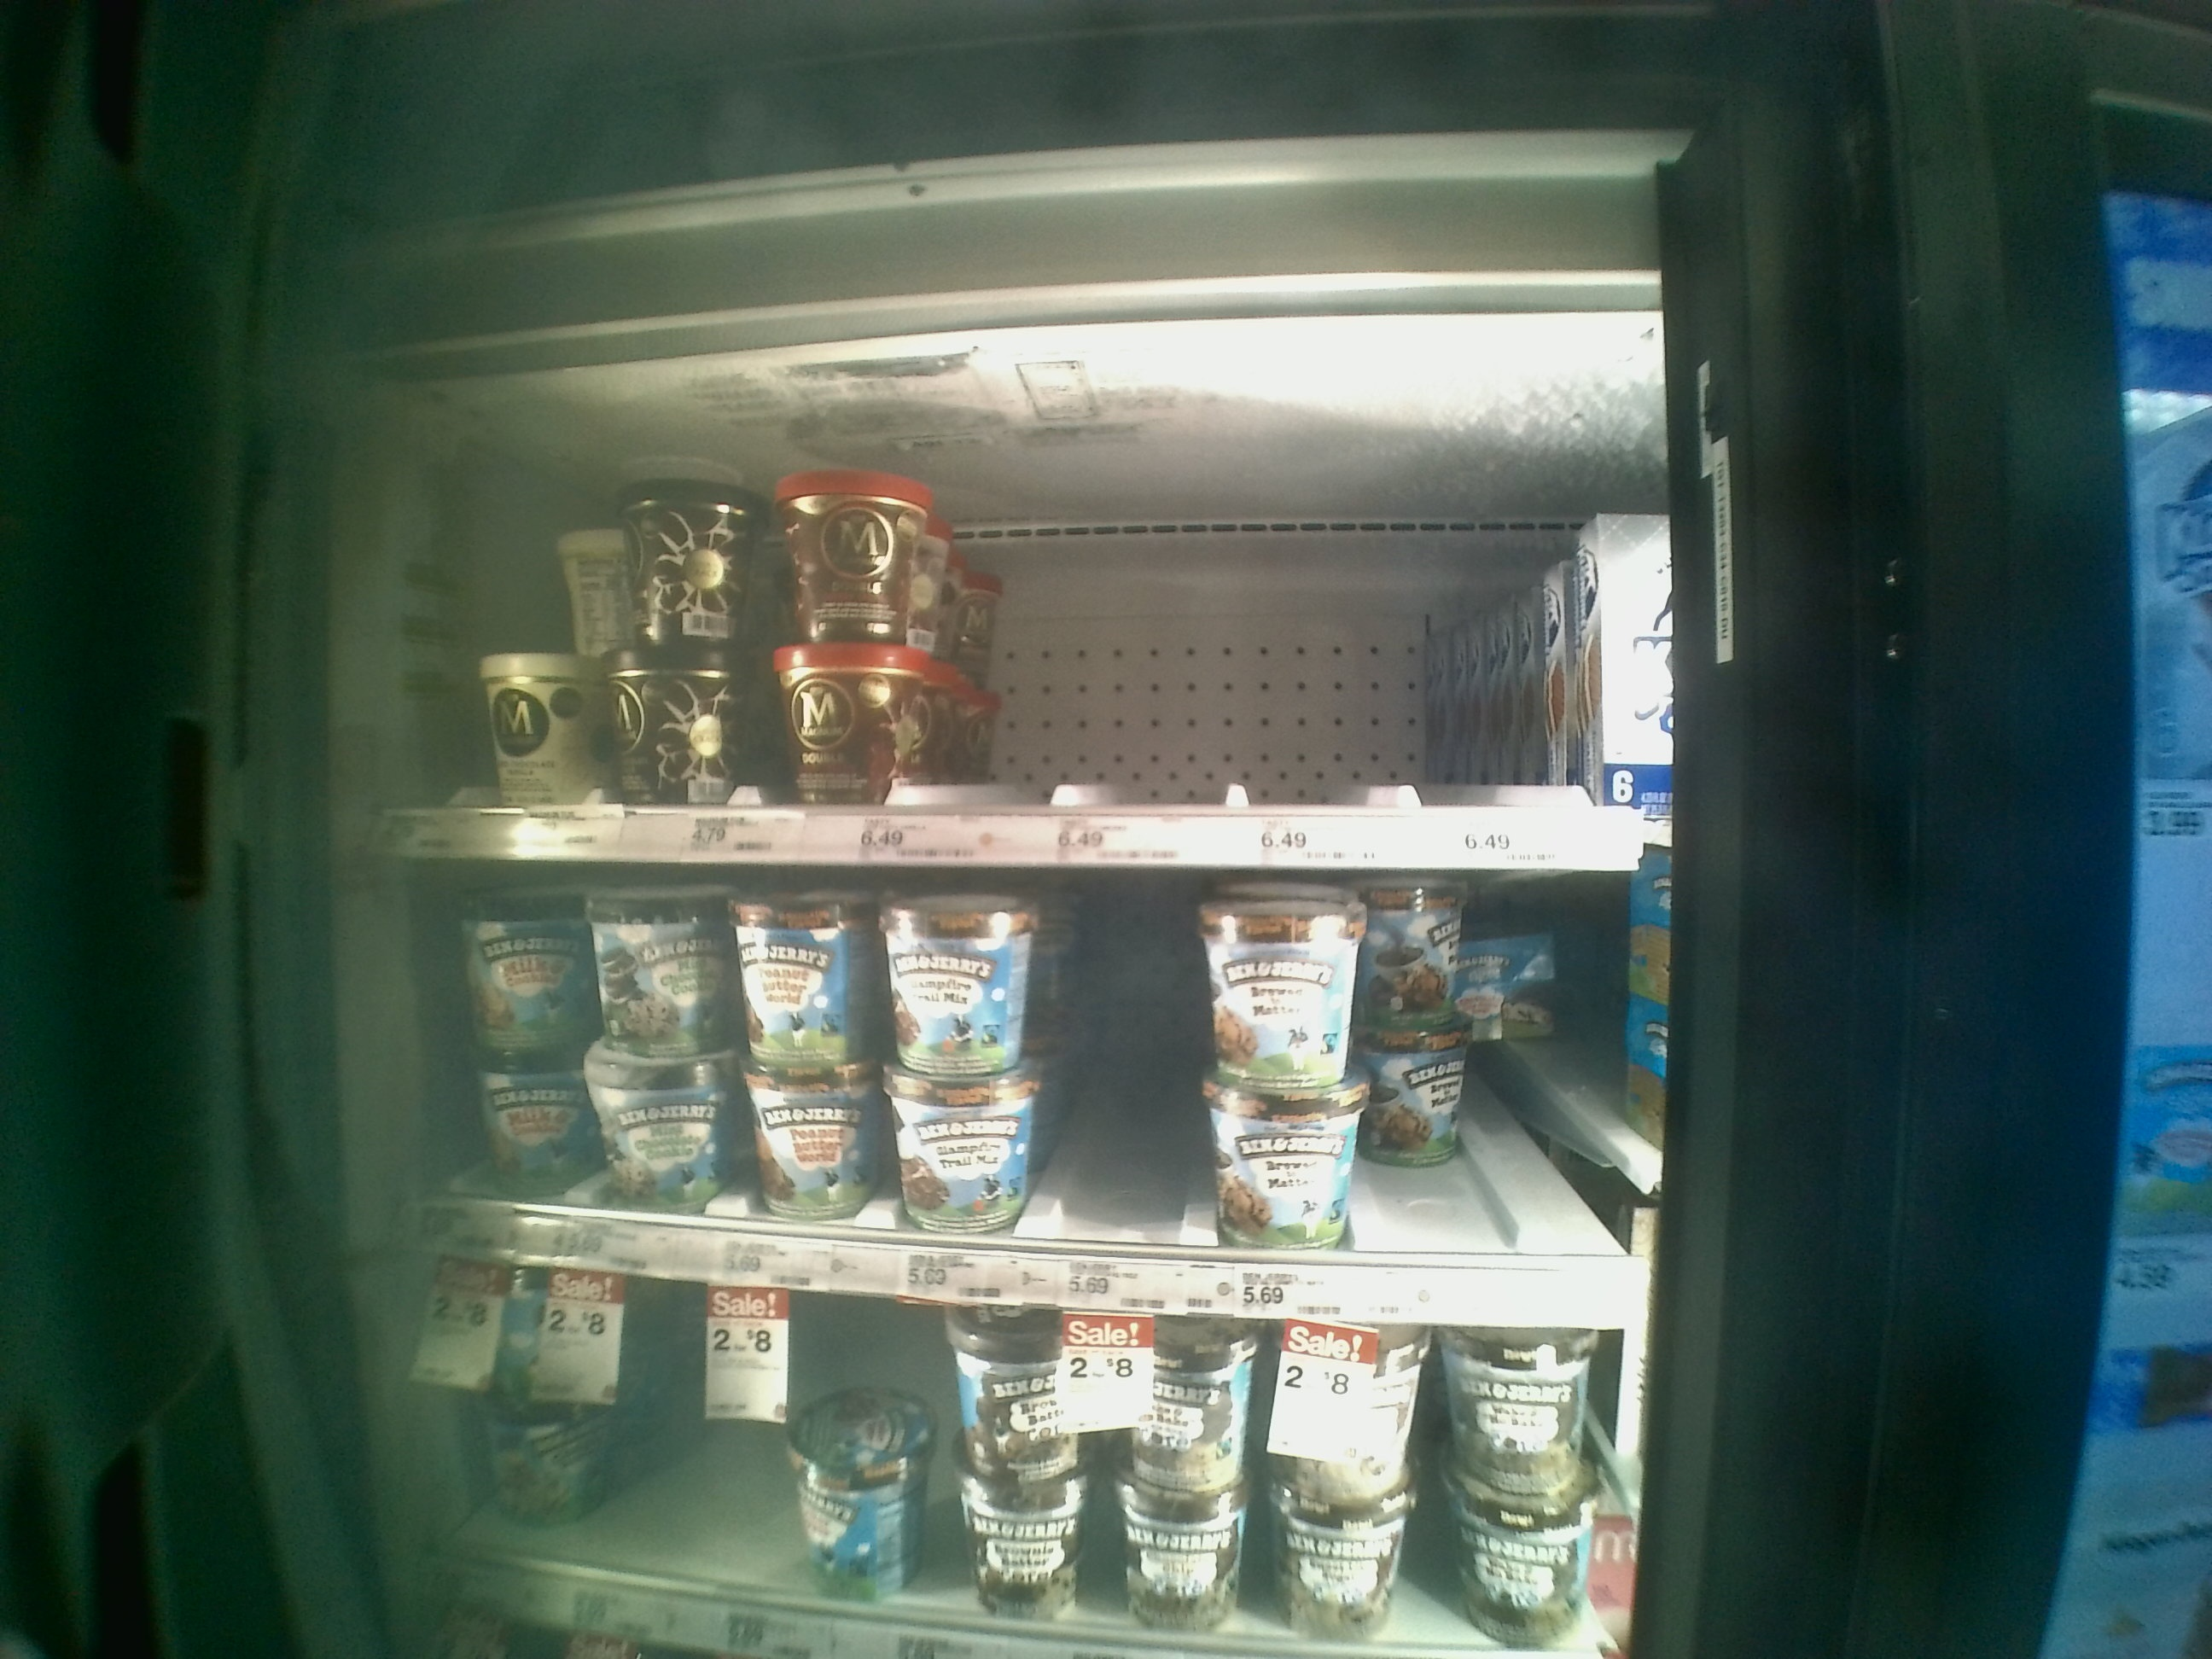shelf: (348, 345, 1681, 857), (359, 859, 1651, 1326)
